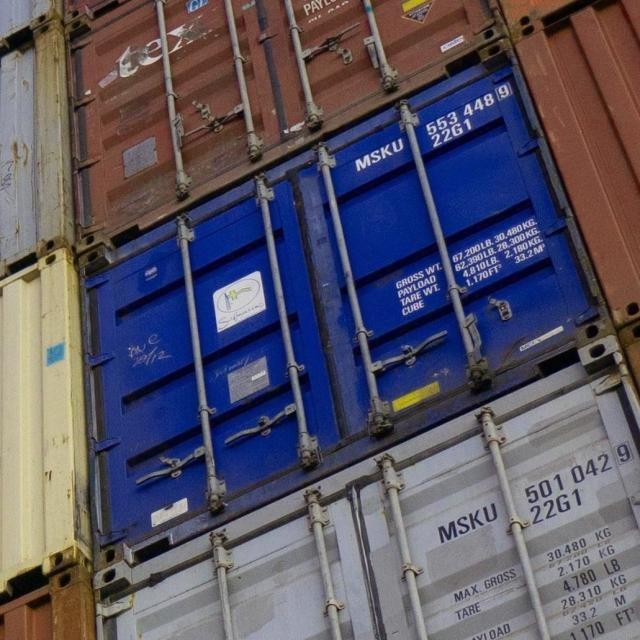ISO: (426, 126, 478, 146)
container_number: (343, 74, 510, 180)
